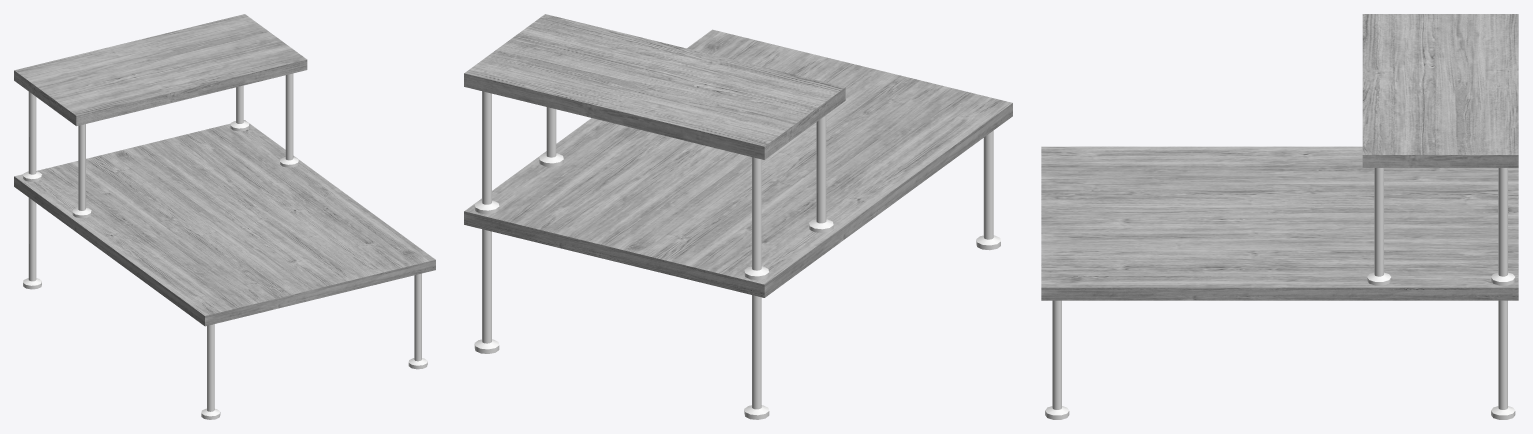
File: Stand_C.FBX
3 views of the same model, side by side, from view 1: azimuth 30°, elevation 25°; view 2: azimuth 150°, elevation 25°; view 3: azimuth 270°, elevation 25° (orthographic). The views are drawn at different scales.
Visible parts, largest first — view 1: Stand_C; view 2: Stand_C; view 3: Stand_C.
Boxes of the visible parts, x1,y1,x2,y2 form: Stand_C: (14,14,435,419); Stand_C: (464,14,1012,419); Stand_C: (1041,14,1518,419).
Size of the model in its own units: 0.835 by 0.7376 by 1.2.
Materials: 2 (1 with a texture image).
